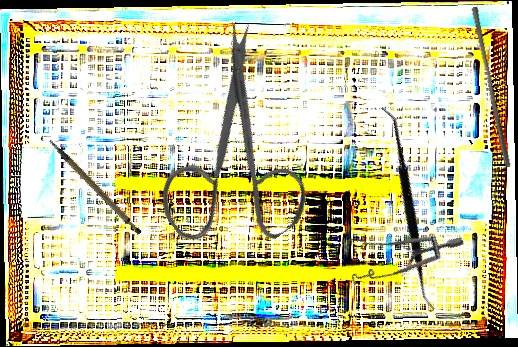Iris Scissors: (97, 16, 360, 284)
Pusher: (465, 6, 518, 168)
Scalpel Handle: (48, 127, 144, 245)
Spatula Surgical: (306, 105, 509, 313)
Speculum: (327, 181, 467, 314)
